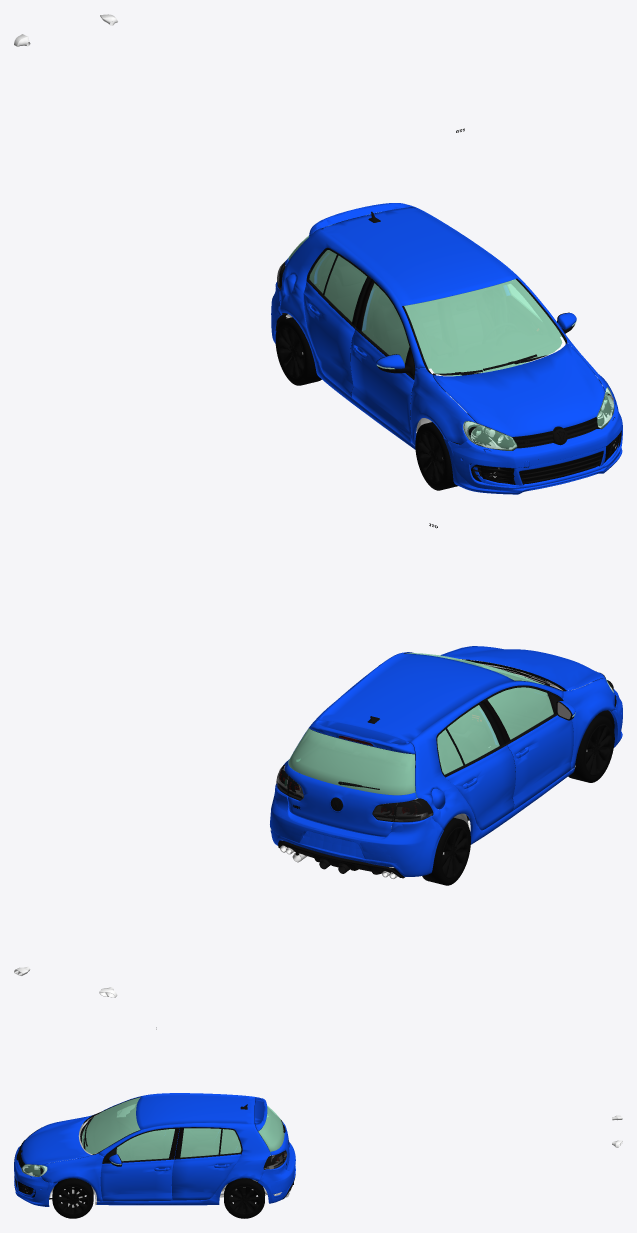
Rendered from golf6.glb.
The picture shows the model from 3 angles, top to bottom: view 1: azimuth 30°, elevation 25°; view 2: azimuth 150°, elevation 25°; view 3: azimuth 270°, elevation 25°; orthographic projection. The views are drawn at different scales.
Parts seen in each view (by area): view 1: vgolf6_paint-material (×9), vivace_glass-material (×4), vgolf6_intr_tex-material (×6), vgolf6_seats-material (×3), etk800-material (×3), vgolf6_intr_tex2-material (×3), Gar_p1b-material (×2), gti_nodamage-material; view 2: vgolf6_paint-material (×8), vivace_glass-material (×3), vgolf6_intr_tex-material (×6), etk800-material (×3), Gar_p1b-material (×2), vgolf6_intr_tex2-material, etk800_glass-material; view 3: vgolf6_paint-material (×9), vivace_glass-material (×4), vgolf6_intr_tex-material (×5), Gar_p1b-material (×2), vgolf6_intr_tex2-material (×3), etk800-material (×3), vgolf6_seats-material.
Boxes of the visible parts, x1,y1,x2,y2 form: vgolf6_paint-material (×9): (279, 203, 622, 494); vivace_glass-material (×4): (309, 250, 563, 450); vgolf6_intr_tex-material (×6): (278, 250, 561, 483); vgolf6_seats-material (×3): (332, 265, 483, 362); etk800-material (×3): (306, 211, 619, 484); vgolf6_intr_tex2-material (×3): (372, 288, 547, 360); Gar_p1b-material (×2): (275, 317, 457, 490); gti_nodamage-material: (451, 403, 621, 484); vgolf6_paint-material (×8): (270, 646, 615, 876); vivace_glass-material (×3): (288, 687, 575, 795); vgolf6_intr_tex-material (×6): (289, 672, 611, 878); etk800-material (×3): (278, 652, 573, 878); Gar_p1b-material (×2): (422, 715, 614, 885); vgolf6_intr_tex2-material: (438, 713, 489, 769); etk800_glass-material: (372, 798, 433, 822); vgolf6_paint-material (×9): (14, 1093, 295, 1205); vivace_glass-material (×4): (82, 1097, 284, 1165); vgolf6_intr_tex-material (×5): (57, 1099, 282, 1214); Gar_p1b-material (×2): (52, 1178, 265, 1218); vgolf6_intr_tex2-material (×3): (110, 1112, 240, 1158); etk800-material (×3): (78, 1096, 247, 1166); vgolf6_seats-material: (192, 1131, 236, 1154).
Size of what is drawn, in the model's own units: 2.08 by 2.91 by 9.23.
